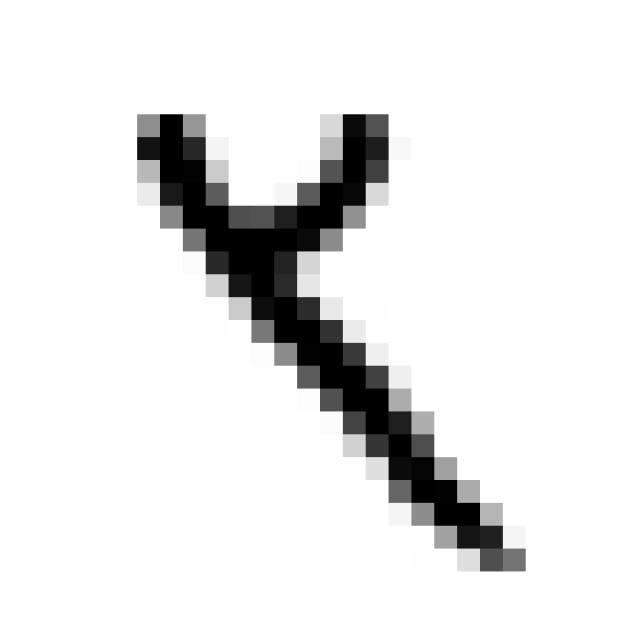3 -three-: (116, 87, 544, 591)
